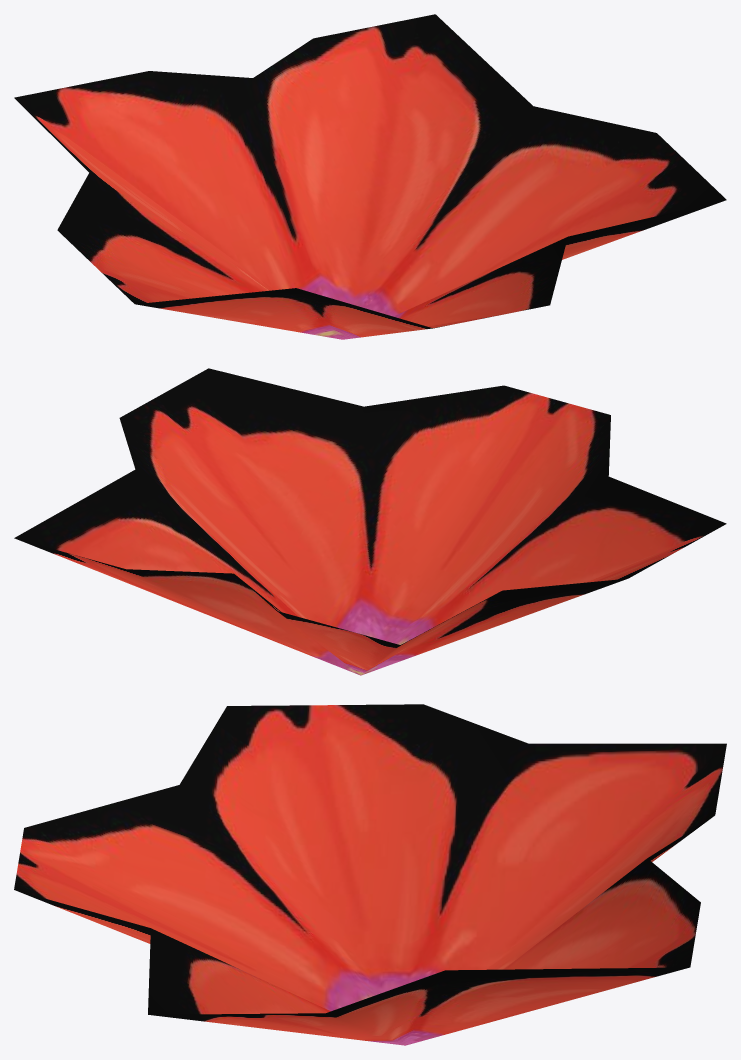
File: petal_3.gltf
The picture shows the model from 3 angles, top to bottom: view 1: azimuth 30°, elevation 25°; view 2: azimuth 150°, elevation 25°; view 3: azimuth 270°, elevation 25°; orthographic projection. The views are drawn at different scales.
Visible parts, largest first — view 1: Petal_3; view 2: Petal_3; view 3: Petal_3.
Boxes of the visible parts, bbox=[...] form: Petal_3: bbox=[14, 14, 726, 339]; Petal_3: bbox=[14, 368, 726, 675]; Petal_3: bbox=[14, 704, 726, 1045].
Bounding box in the file's own units: 0.6195 × 0.1895 × 0.6064.
1 material, 1 textured.
